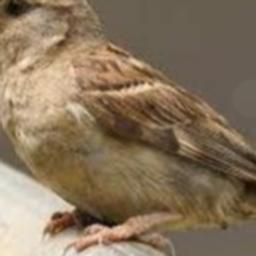Sparrow: (0, 0, 256, 254)
